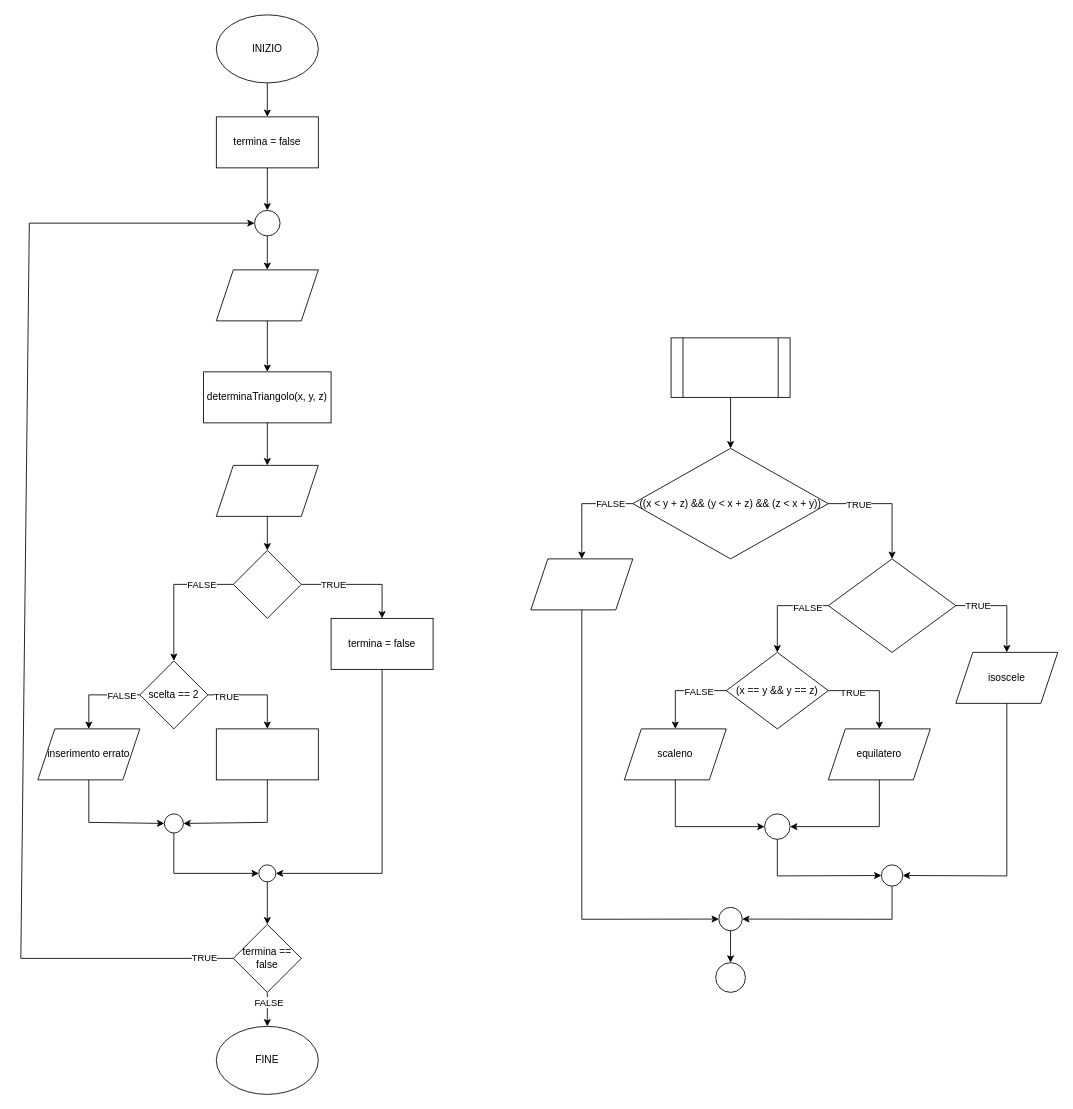
Some shapes in this 1073 by 1109 pixel diagram are drawn without their labels. The box of each missing label's shape, as (x1, y1, x2, y2) in pixels:
(x == y || y == z || x == z): (827, 558, 956, 652)
determinaTriangolo (x, y, z): (670, 337, 790, 397)
int scelta: (215, 465, 318, 516)
int x, y, z: (215, 269, 318, 321)
nessun triangolo: (530, 558, 633, 610)
scelta == 1: (232, 550, 301, 618)
termina = true: (215, 728, 318, 780)
